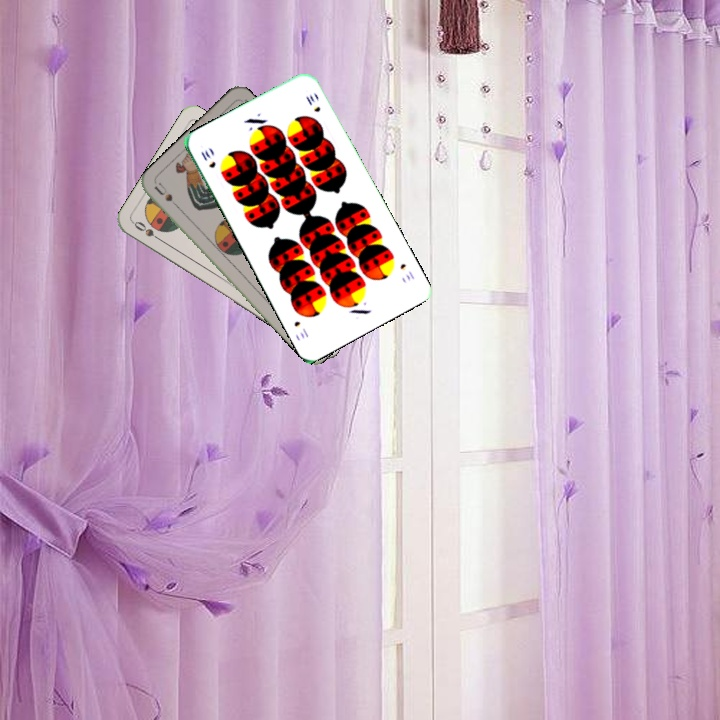S10: (197, 146, 218, 171), (396, 259, 417, 283)
SO: (129, 217, 166, 245)
SU: (151, 179, 184, 214)
